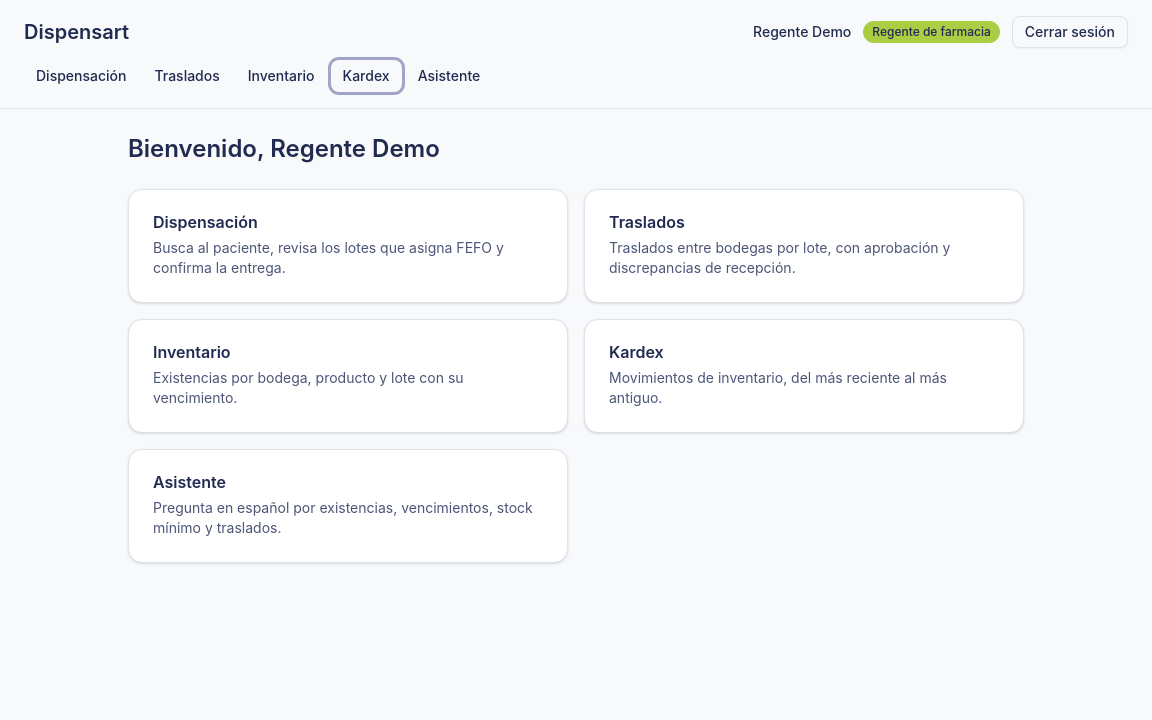
Test case: menú por rol › Navegación con teclado: abrir Kardex desde el menú lo marca como página actual
Click the link "Kardex". click: click(366, 76)
box: [330,60,402,92]
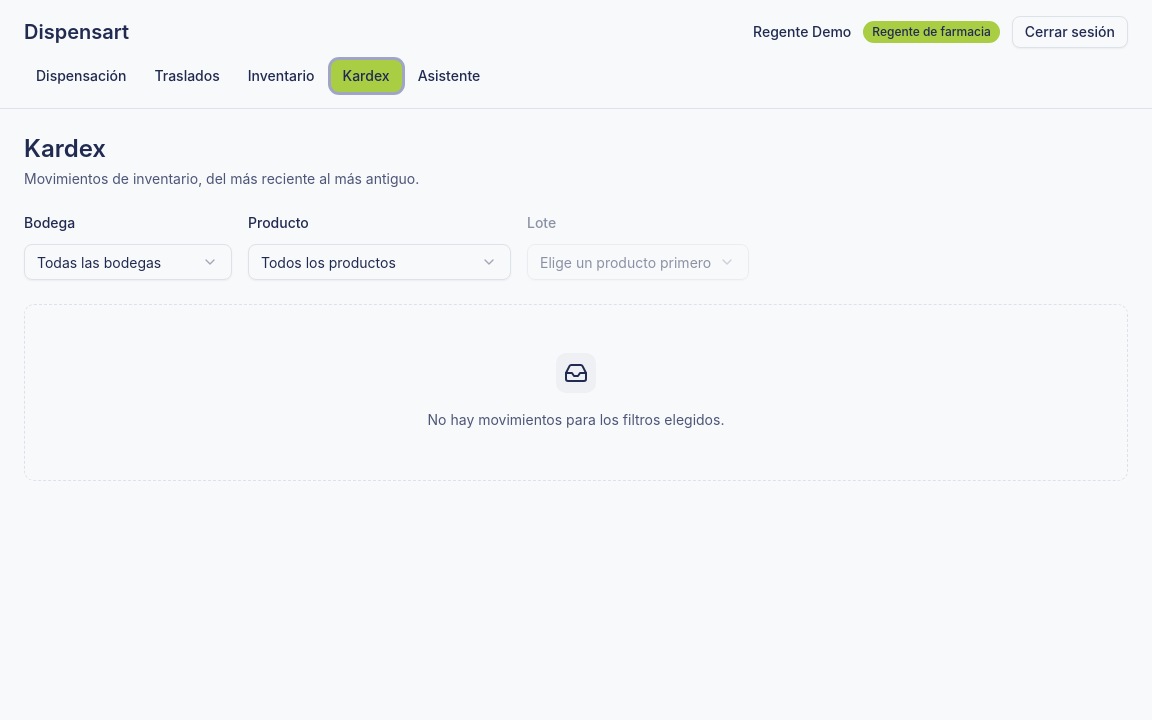
expect the heading "Kardex" is shown: met, box [24,134,106,163]
